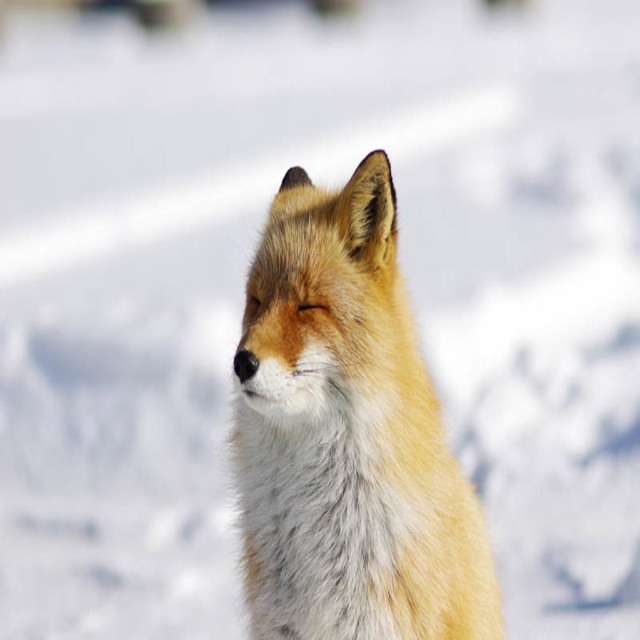Fox: (218, 147, 510, 639)
